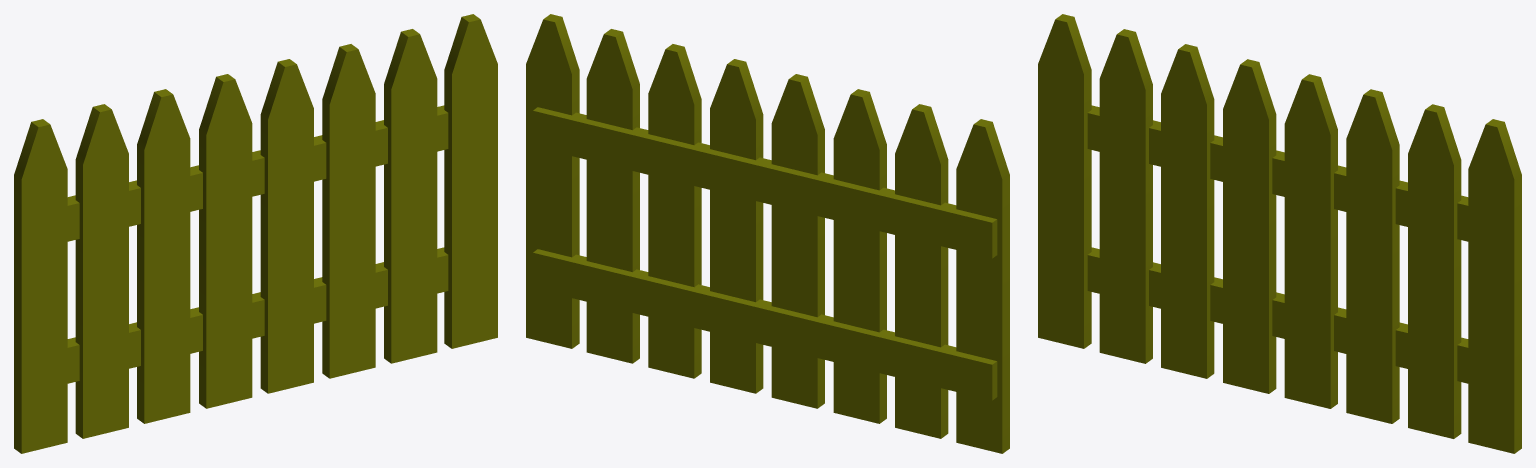
Rendered from Fence.fbx.
3 views of the same model, side by side, from view 1: azimuth 30°, elevation 25°; view 2: azimuth 150°, elevation 25°; view 3: azimuth 330°, elevation 25° (orthographic).
Parts seen in each view (by area): view 1: Fences1; view 2: Fences1; view 3: Fences1.
Boxes of the visible parts, <box> form: Fences1: <box>14,14,497,453</box>; Fences1: <box>526,14,1009,453</box>; Fences1: <box>1038,14,1521,453</box>.
Size of the model in its own units: 30.92 by 20 by 1.38.
